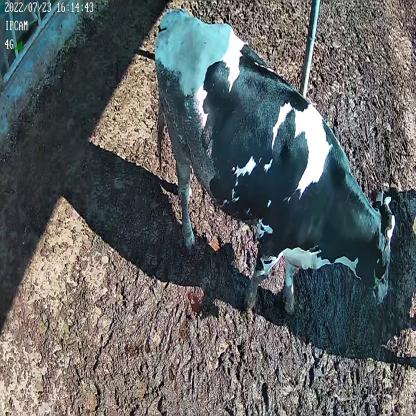cow: (154, 6, 398, 315)
